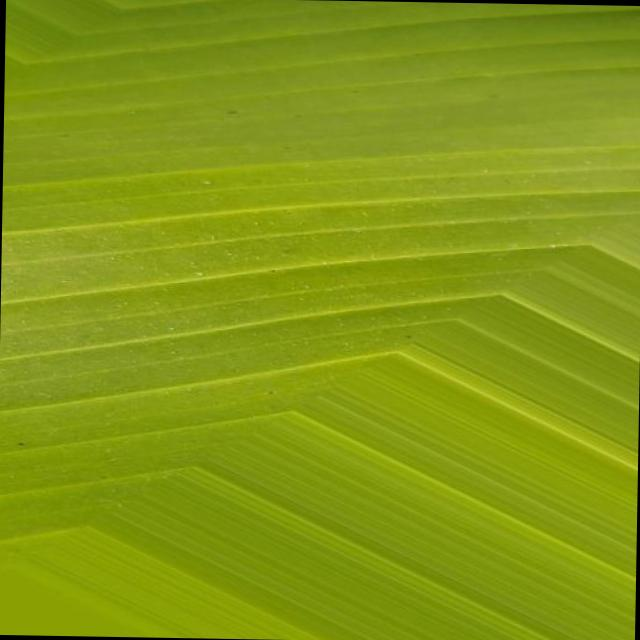Banana_Healthy: (91, 84, 554, 496)
